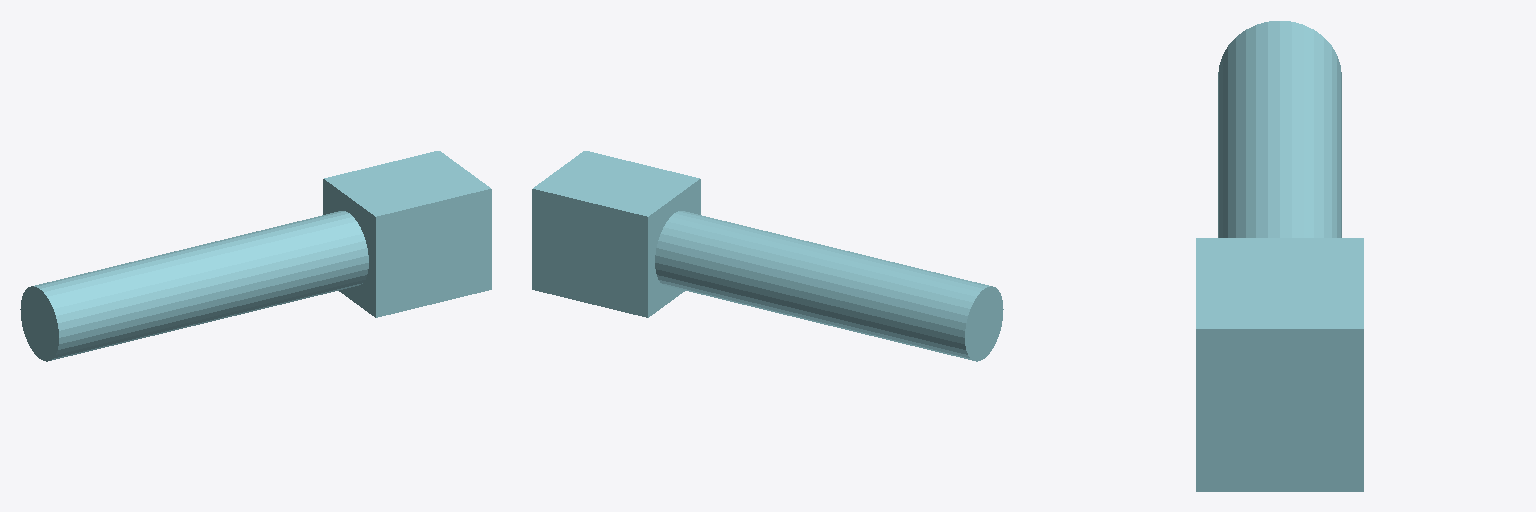
URDF robot description (cylinder_brush_v9005):
<?xml version="1.0"?>
<robot name="cylinder_brush_v9005">

  <link name="cylinder_brush_v9005">
    <!-- Handle -->
    <visual>
      <origin xyz="0 0 0" rpy="0 1.5707963267948966 0"/>
      <geometry>
        <cylinder length="0.1432688044791135" radius="0.015463743830017525"/>
      </geometry>
      <material name="material">
        <color rgba="0.639 0.847 0.882 1.0"/>
      </material>
    </visual>
    <collision>
      <origin xyz="0 0 0" rpy="0 1.5707963267948966 0"/>
      <geometry>
        <cylinder length="0.1432688044791135" radius="0.015463743830017525"/>
      </geometry>
    </collision>

    <!-- Head -->
    <visual>
      <origin xyz="0.09840259161257693 0 0" rpy="0 0 0"/>
      <geometry>
        <box size="0.053536378746040364 0.04189135217781729 0.04473775966013815"/>
      </geometry>
      <material name="material">
        <color rgba="0.639 0.847 0.882 1.0"/>
      </material>
    </visual>
    <collision>
      <origin xyz="0.09840259161257693 0 0" rpy="0 0 0"/>
      <geometry>
        <box size="0.053536378746040364 0.04189135217781729 0.04473775966013815"/>
      </geometry>
    </collision>

    <inertial>
      <density value="400.0"/>
    </inertial>
  </link>

</robot>

--- Render facts (derived) ---
The picture shows the robot from 3 angles, left to right: view 1: azimuth 30°, elevation 25°; view 2: azimuth 150°, elevation 25°; view 3: azimuth 270°, elevation 25°; orthographic projection.
Robot: cylinder_brush_v9005 — 1 links, 0 joints (none); root link cylinder_brush_v9005; default pose: all joints at 0.
Links seen in each view (by area): view 1: cylinder_brush_v9005; view 2: cylinder_brush_v9005; view 3: cylinder_brush_v9005.
Boxes of the visible links, box(x1,y1,x2,y2) form: cylinder_brush_v9005: box(20, 151, 491, 361); cylinder_brush_v9005: box(532, 151, 1003, 361); cylinder_brush_v9005: box(1196, 21, 1363, 491).
Bounding box of the posed robot: 0.1968 × 0.0419 × 0.0447 m (x, y, z).
Geometry: primitives only (box / cylinder / sphere), no mesh files.
